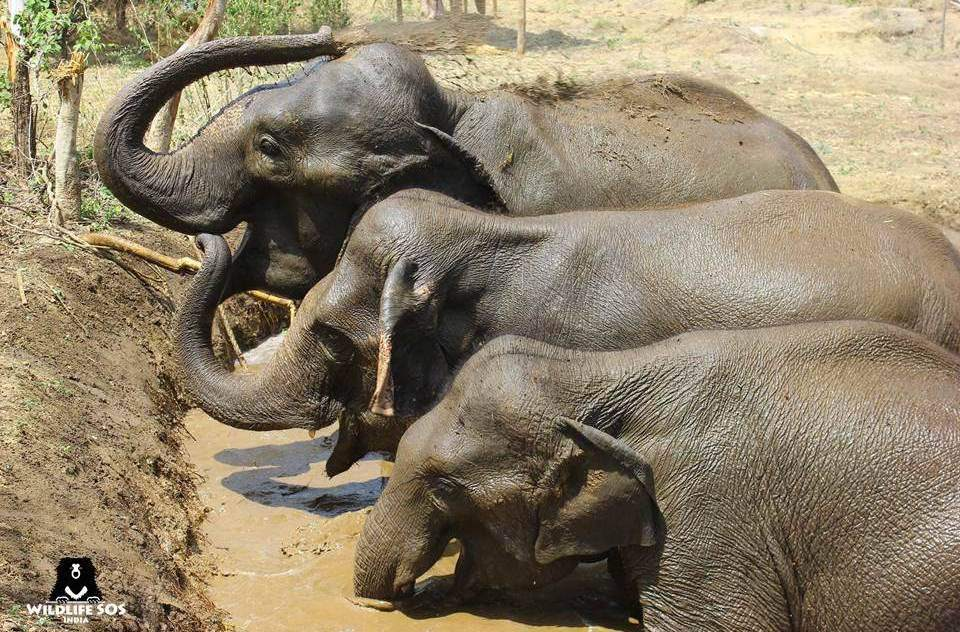Indian Elephant: (168, 208, 960, 449), (345, 325, 956, 632), (73, 22, 887, 235)
